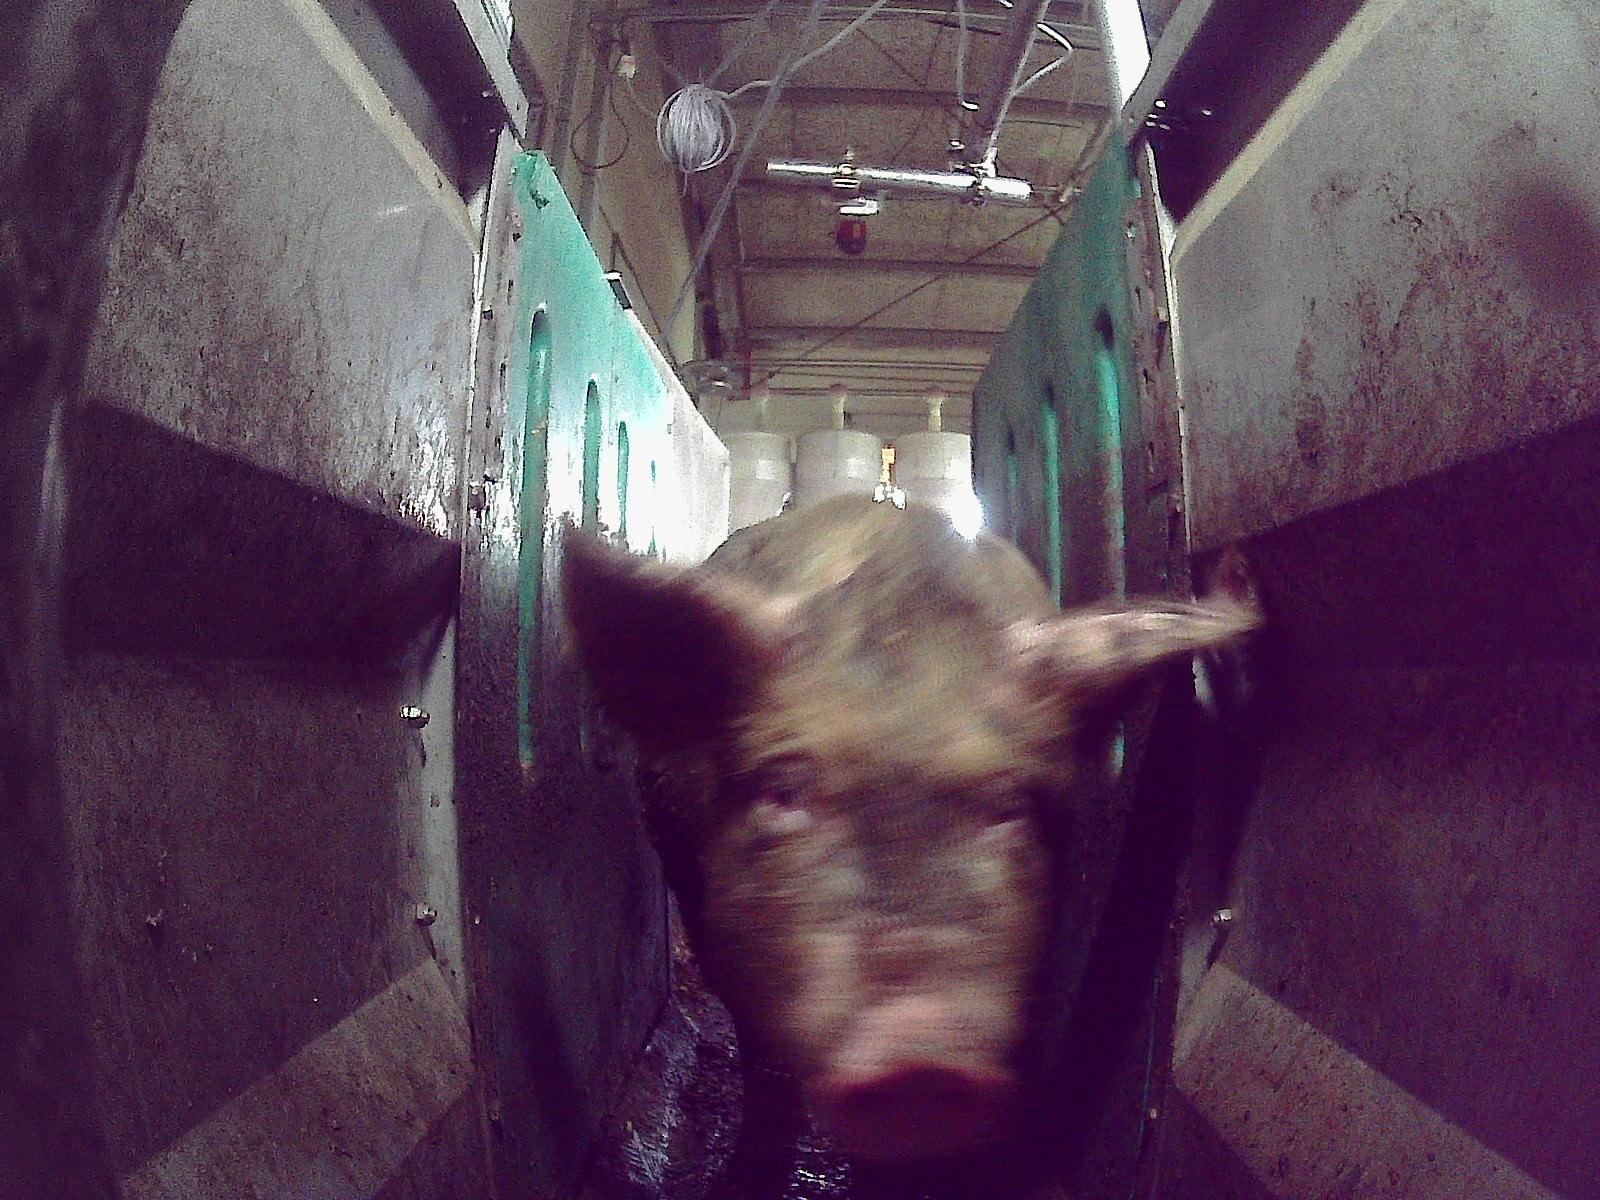Face: (674, 566, 1069, 1154)
